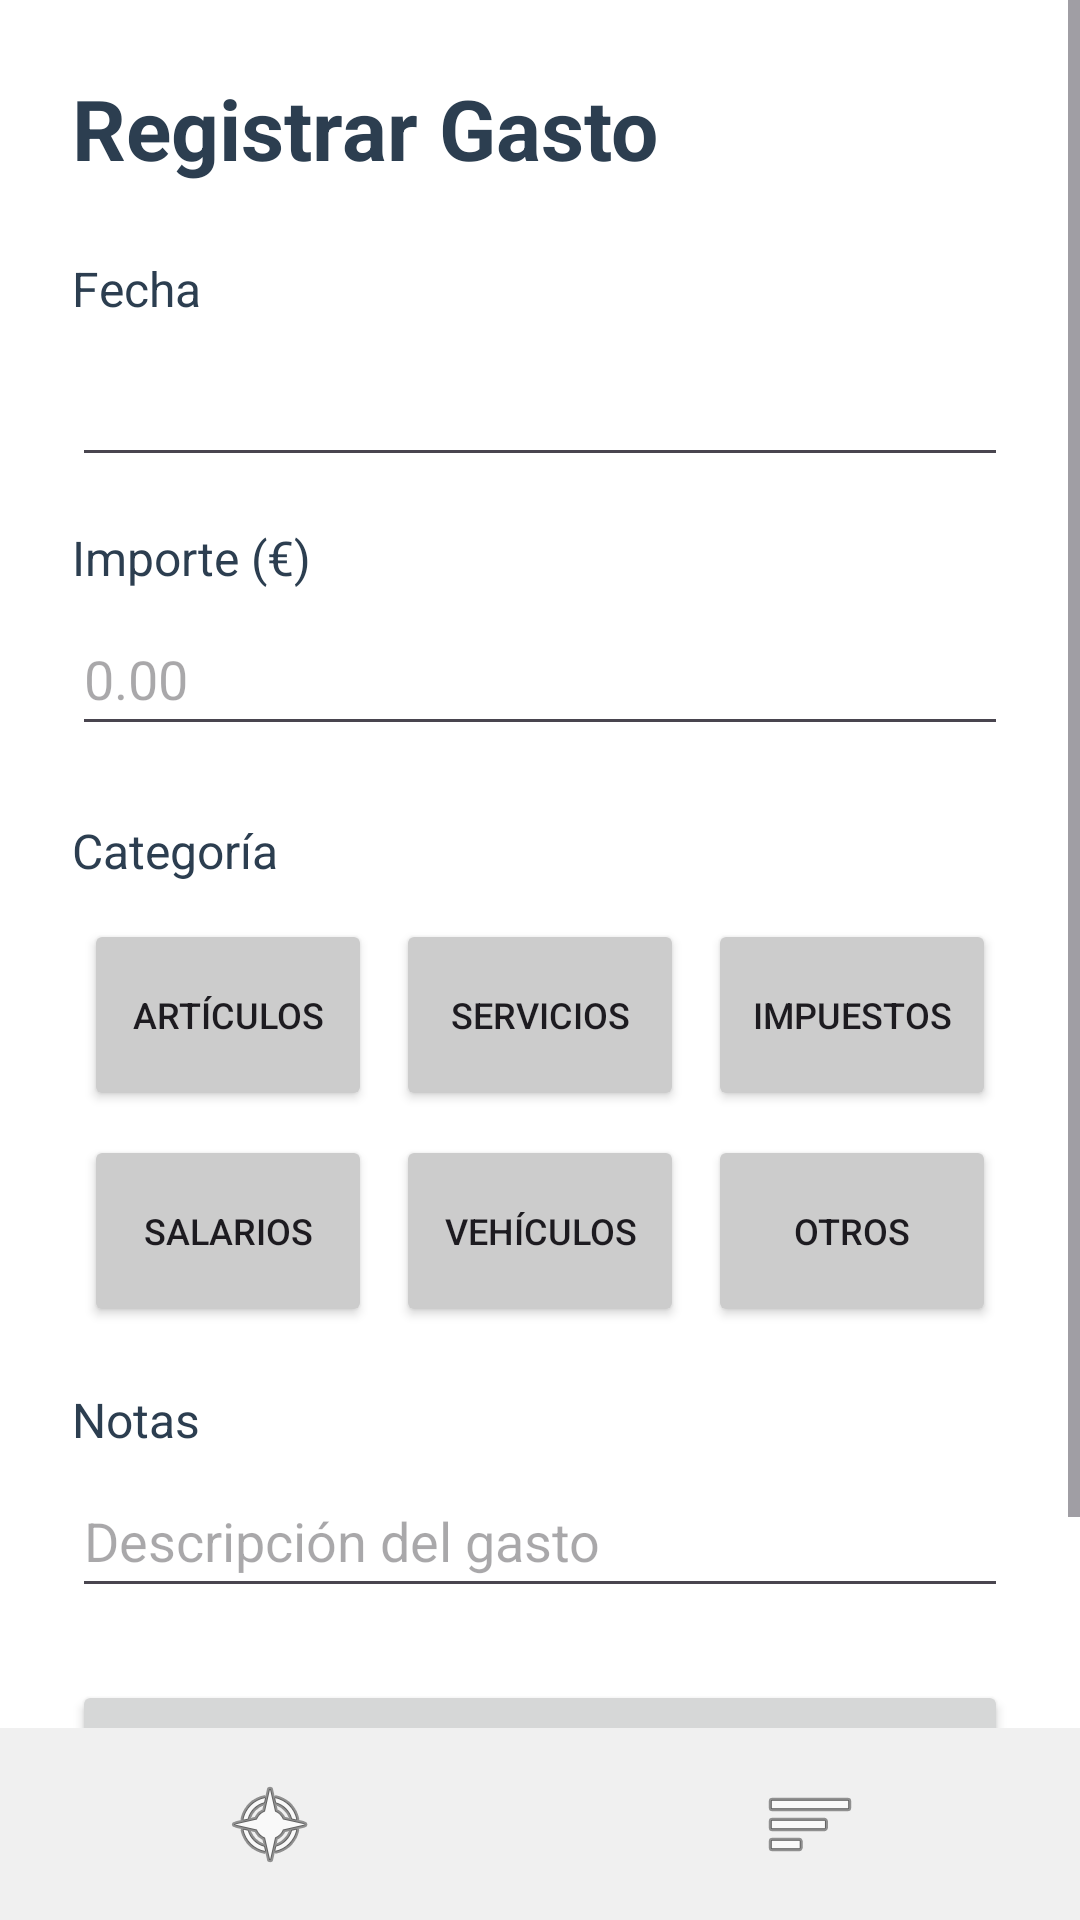

Where icons sit on this 1080x1920 app screen, as region(x1, y1, x2, y2):
Ir a informes: region(769, 1798, 851, 1851)
